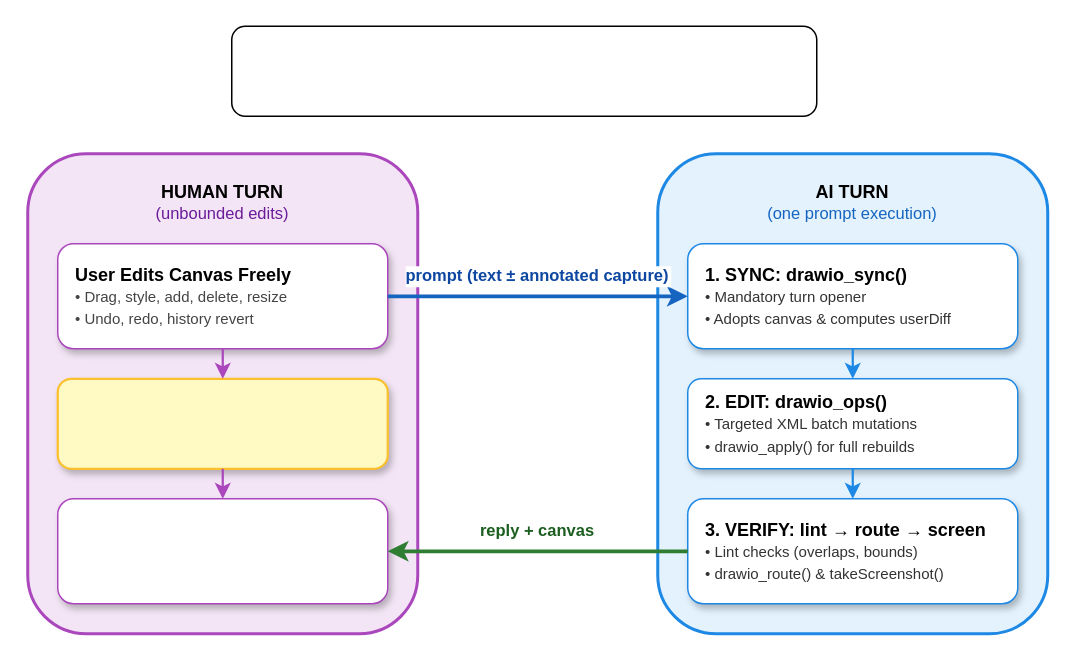
The diagram is 1074 pixels wide and 662 high, and some of its shapes have lost their labels. Each missing label, with the centre of its shape:
"Canvas = Ground Truth Authoritative diagram XML stored locally in browser" goes at pixel 223 425.
"Turn-Based Human/AI Co-Editing Workflow drawio-live sync → edit → verify loop" goes at pixel 523 70.
"User Views Updated Canvas • Synchronized GUI render • Preserved user undo stack" goes at pixel 223 552.
